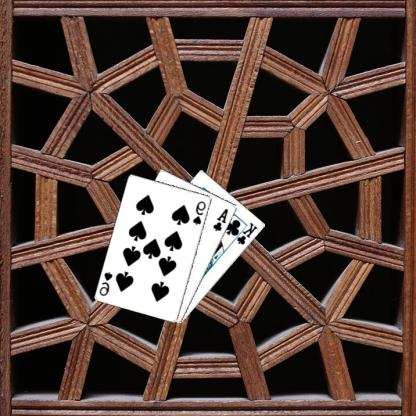9S: (192, 198, 209, 226), (98, 269, 115, 297)
AC: (213, 206, 231, 232)
KC: (232, 219, 260, 245)
